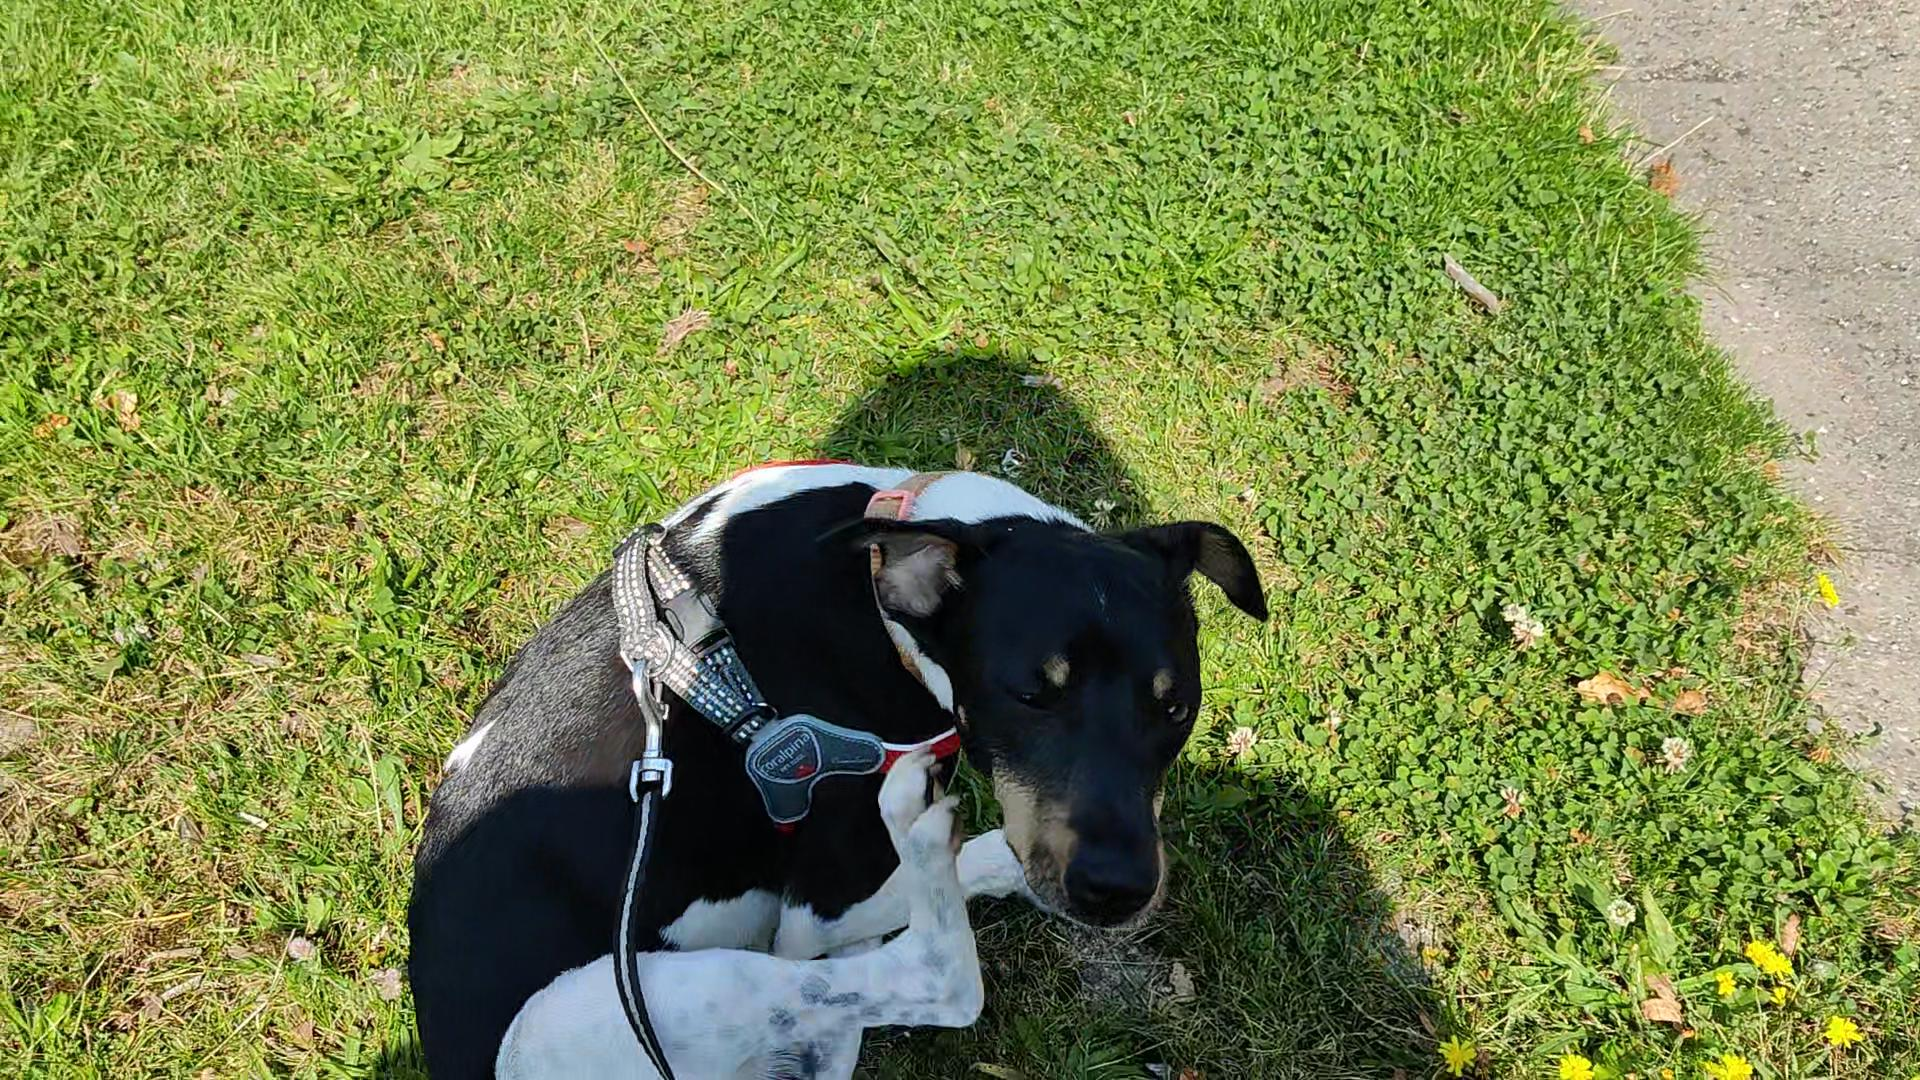Dog: (400, 446, 1276, 1079)
